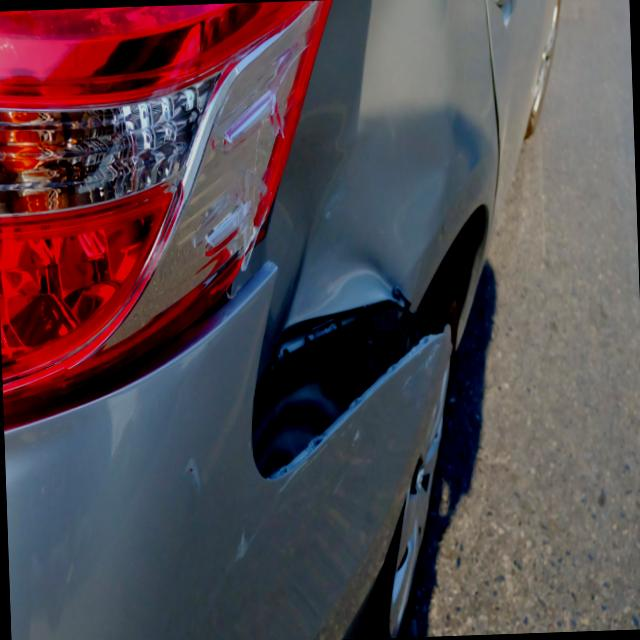Dechirure: (238, 233, 515, 499)
Phare abime: (0, 10, 338, 381)
